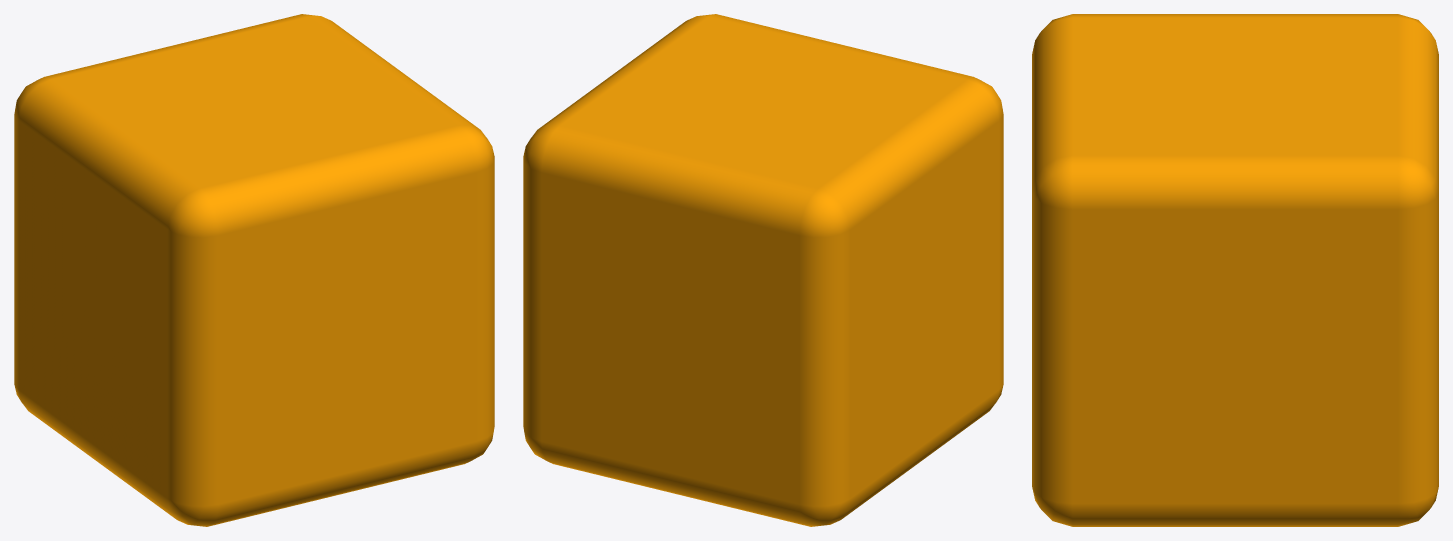
3 views of the same model, side by side, from view 1: azimuth 30°, elevation 25°; view 2: azimuth 150°, elevation 25°; view 3: azimuth 270°, elevation 25° (orthographic). The views are drawn at different scales.
Parts seen in each view (by area): view 1: Cube (Change color here pls); view 2: Cube (Change color here pls); view 3: Cube (Change color here pls).
Part boxes in pixels (box(x1,y1,x2,y2)): Cube (Change color here pls): box(14, 14, 494, 526); Cube (Change color here pls): box(523, 14, 1003, 526); Cube (Change color here pls): box(1032, 14, 1438, 526).
Bounding box in the file's own units: 1 × 0.9954 × 0.9985.
